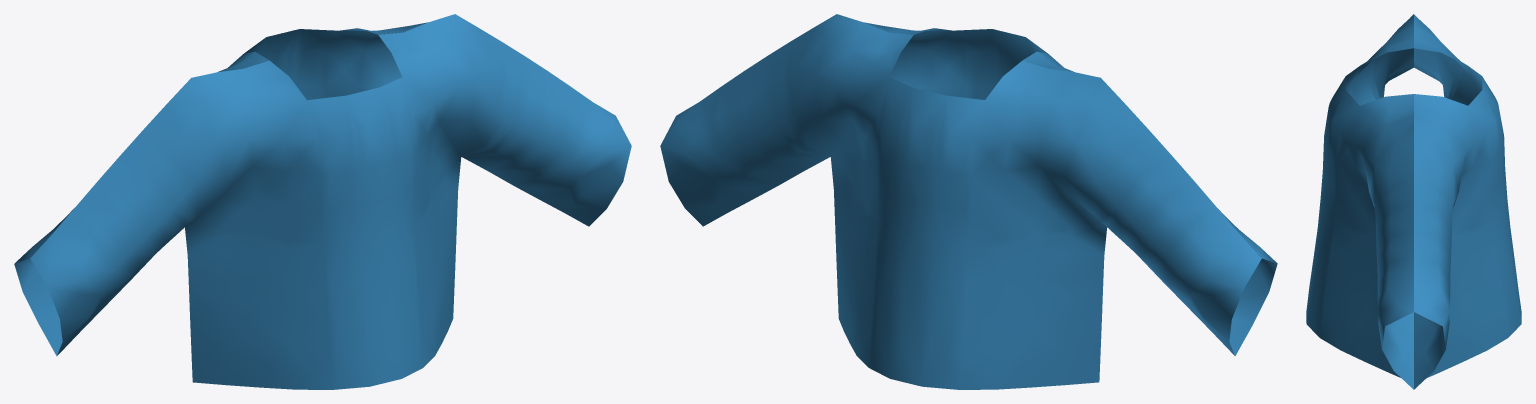
File: Harbor fitted.obj
The picture shows the model from 3 angles, left to right: view 1: azimuth 30°, elevation 25°; view 2: azimuth 150°, elevation 25°; view 3: azimuth 270°, elevation 25°; orthographic projection. The views are drawn at different scales.
Visible parts, largest first — view 1: piece_2, piece_31; view 2: piece_31, piece_2; view 3: piece_31, piece_2.
Boxes of the visible parts, x1,y1,x2,y2 form: piece_2: [30, 14, 631, 389]; piece_31: [14, 22, 427, 356]; piece_31: [660, 14, 1261, 389]; piece_2: [864, 22, 1277, 355]; piece_31: [1414, 14, 1521, 389]; piece_2: [1306, 14, 1413, 389].
Bounding box in the file's own units: 1.19 × 0.5925 × 0.4433.
